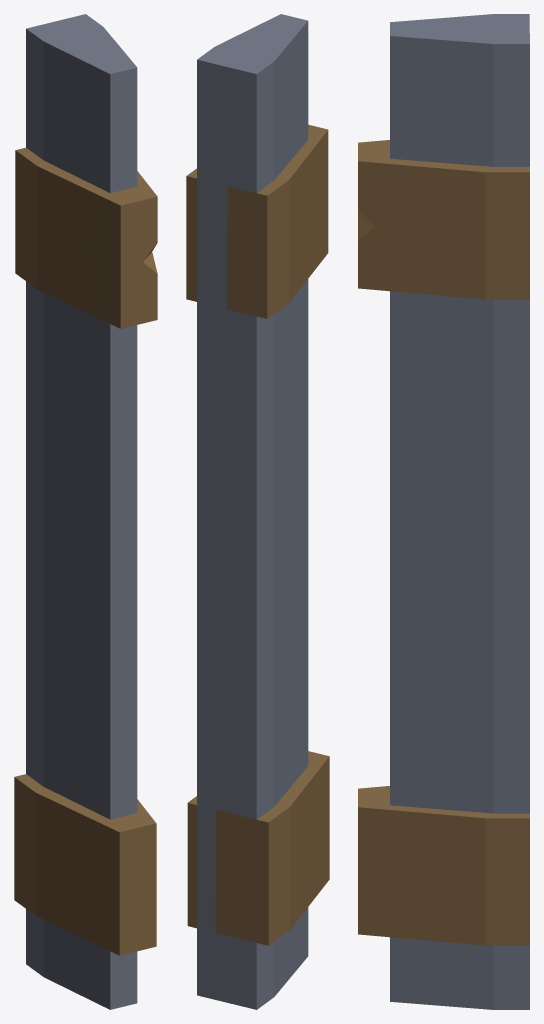
The model's file is Stun01.fbx.
The picture shows the model from 3 angles, left to right: view 1: azimuth 30°, elevation 25°; view 2: azimuth 150°, elevation 25°; view 3: azimuth 270°, elevation 25°; orthographic projection. The views are drawn at different scales.
Visible parts, largest first — view 1: Stun01; view 2: Stun01; view 3: Stun01.
Boxes of the visible parts, left/top/right/bottom form: Stun01: left=14, top=14, right=157, bottom=1009; Stun01: left=186, top=14, right=329, bottom=1009; Stun01: left=358, top=14, right=529, bottom=1009.
Bounding box in the file's own units: 12.46 × 135 × 21.83.
